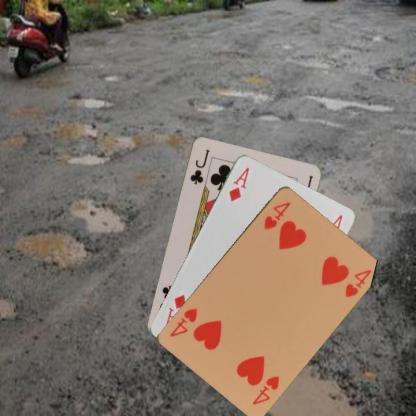4h: (249, 373, 280, 406), (262, 198, 292, 230)
Ad: (226, 164, 251, 202)
Jc: (187, 146, 211, 186)
